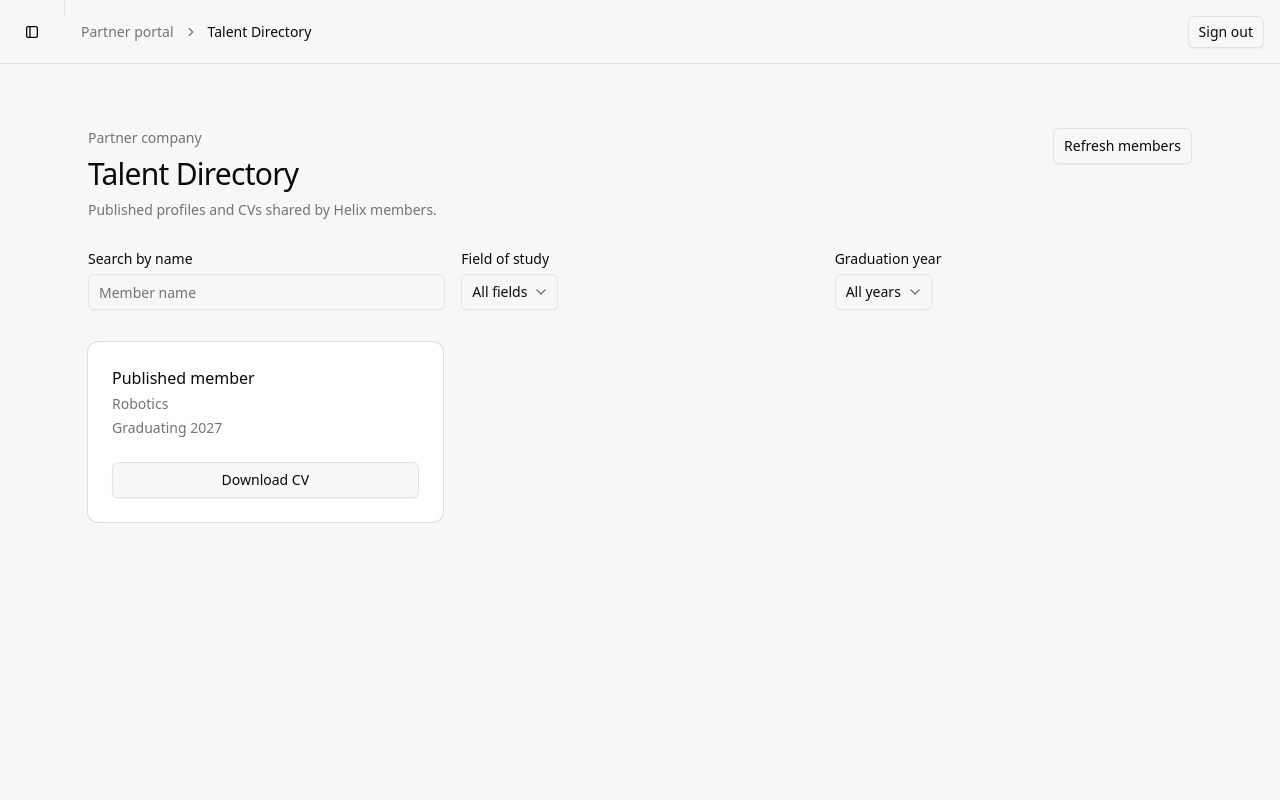
Test: partner portal recovery and identity isolation › discards a late download after identity invalidation
The image size is (1280, 800).
Click the button "Download CV".
click(265, 480)  # box [112,462,419,498]
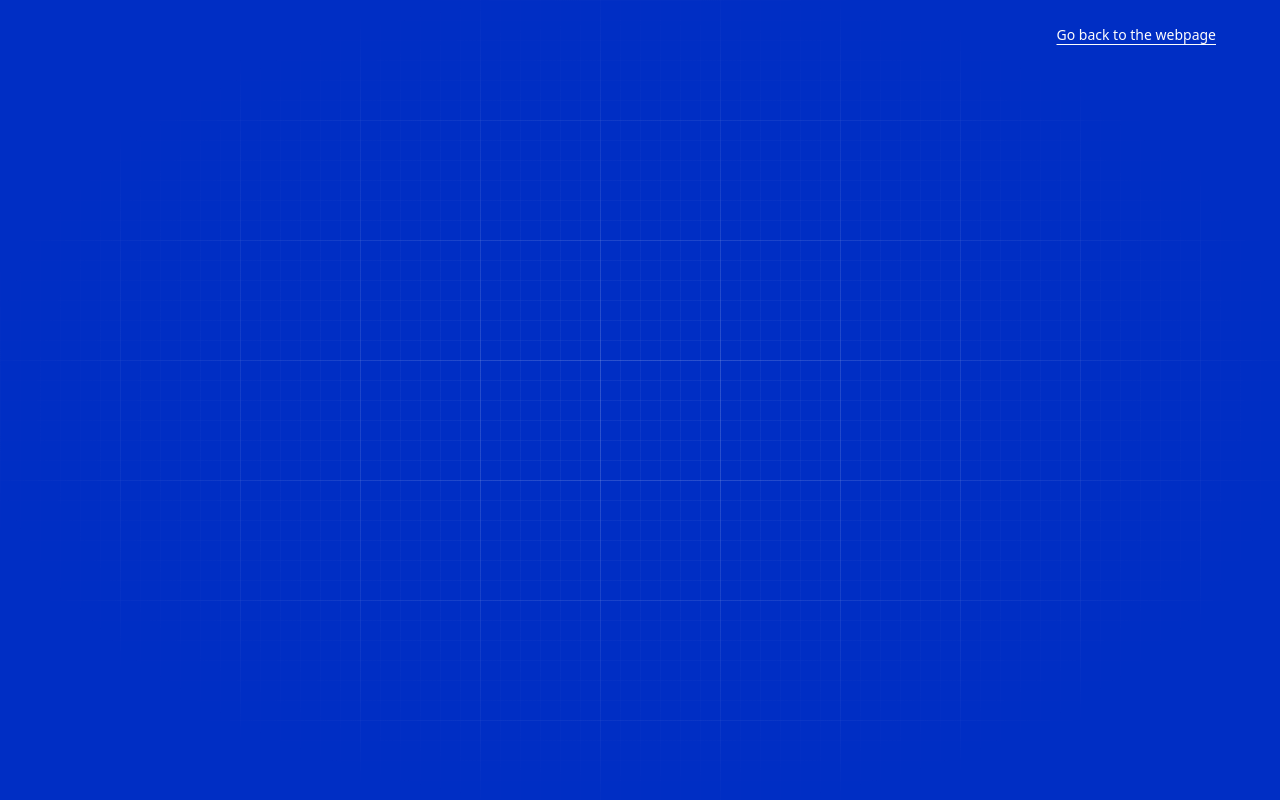
Result: the text "Published member" is gone
